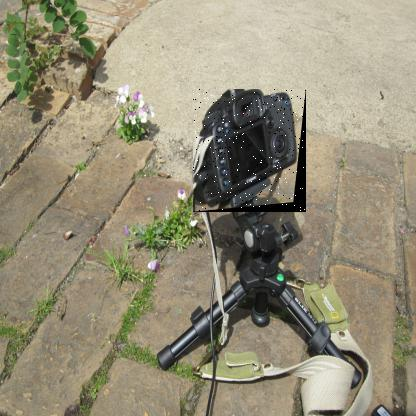Camera: (194, 90, 308, 214)
